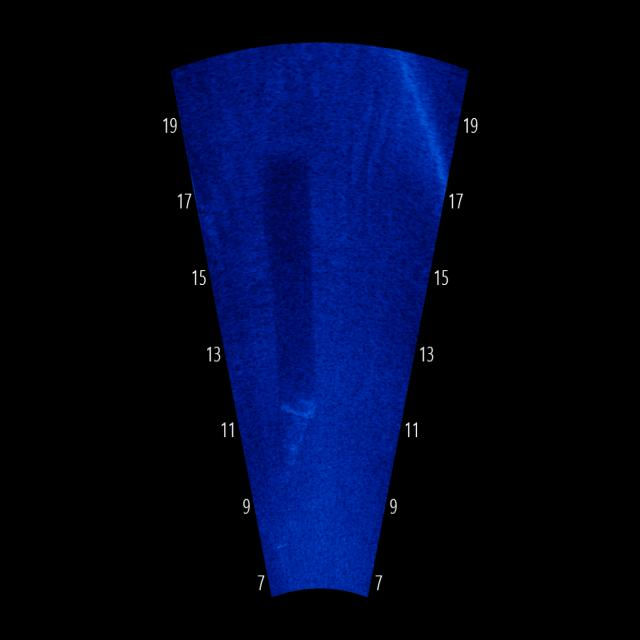triangle: (274, 378, 324, 495)
